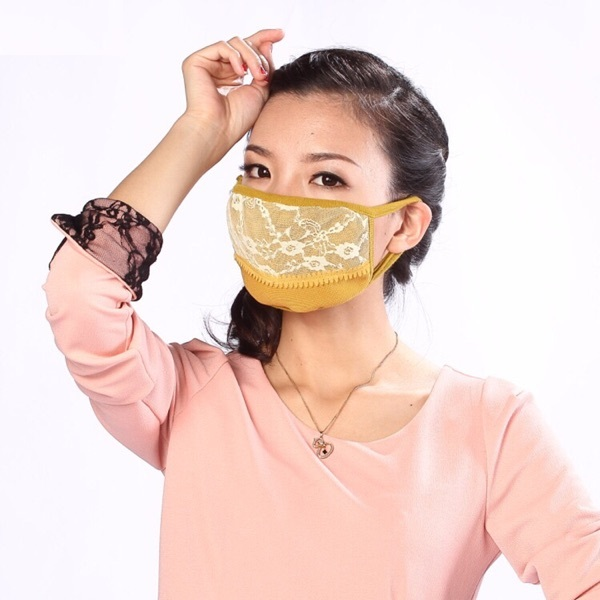face_mask: (232, 89, 386, 296)
